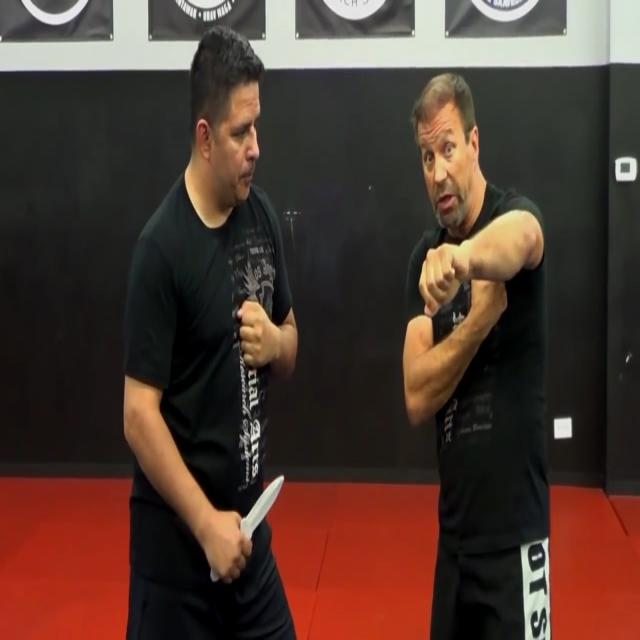knife: (239, 468, 289, 544)
